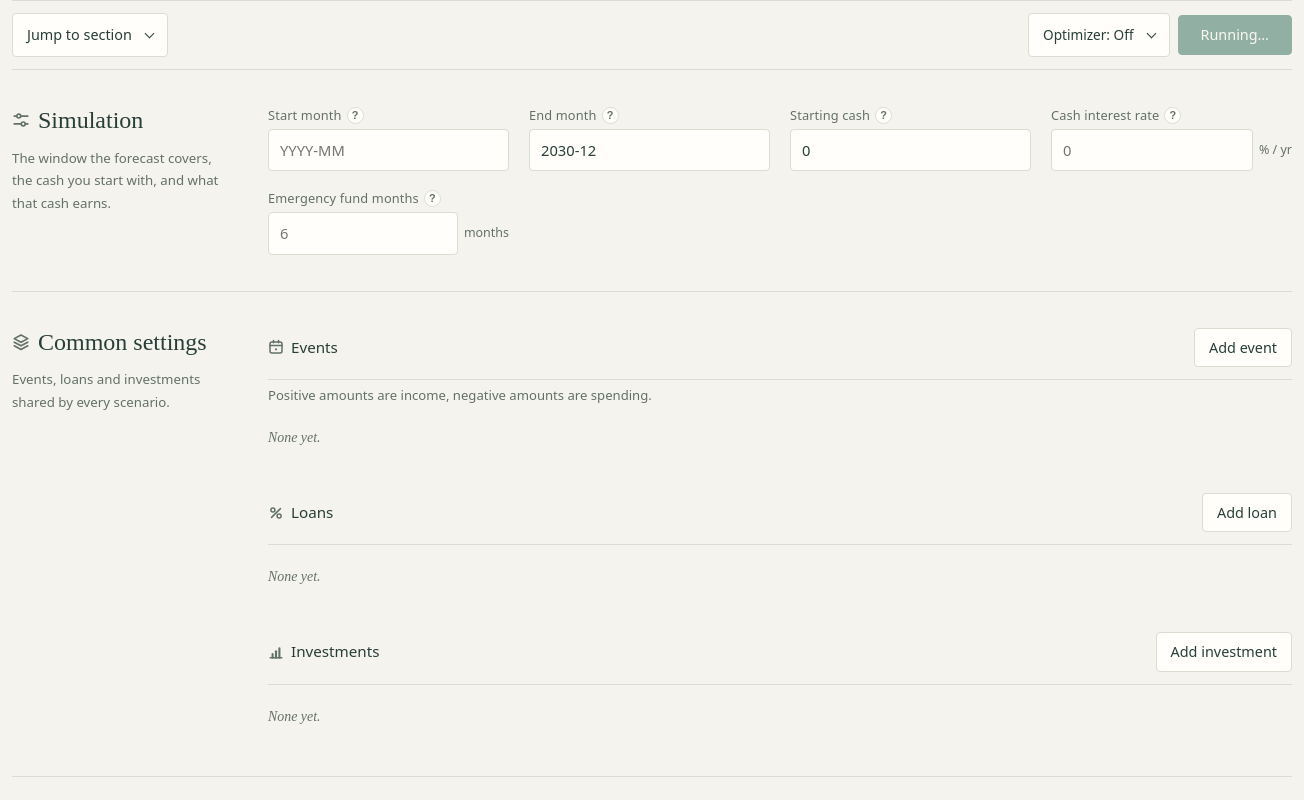
Test: the optimizer panel › disables the preference while running, but still allows inspecting events
Click the button "Optimizer: Off".
click(1099, 35)  # box [1028, 13, 1170, 57]
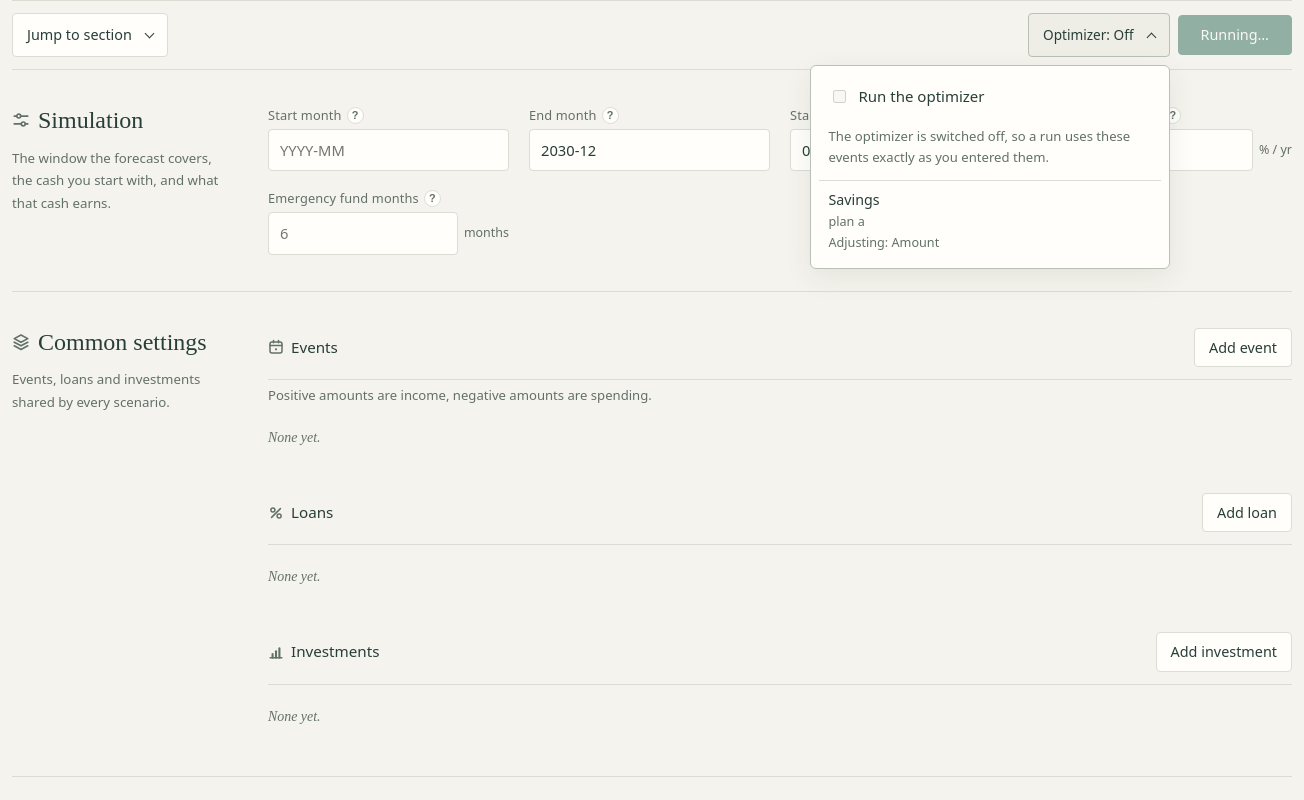
Now the checkbox labelled "Run the optimizer" is disabled, box [832, 90, 846, 102]
Now the button with class "optctl__entry" is shown, box [818, 181, 1160, 260]
